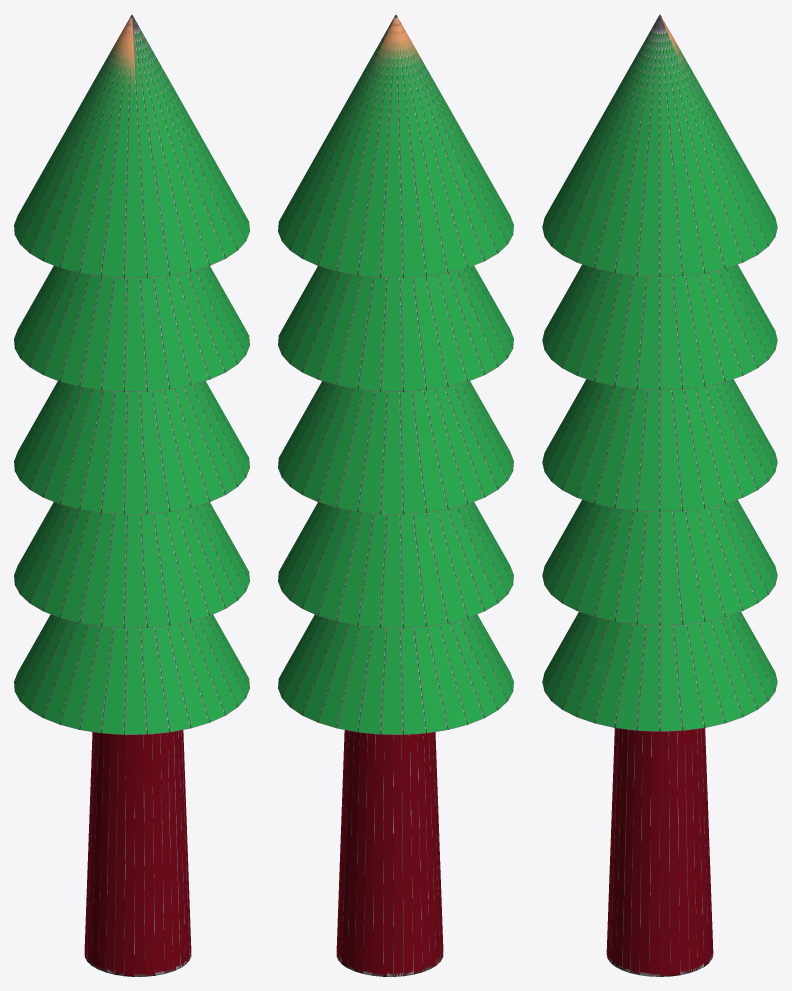
The model's file is tallPineTree.glb.
The picture shows the model from 3 angles, left to right: view 1: azimuth 30°, elevation 25°; view 2: azimuth 150°, elevation 25°; view 3: azimuth 270°, elevation 25°; orthographic projection.
Parts seen in each view (by area): view 1: Cylinder.005, Cylinder.003, Cylinder, Cylinder.002, Cylinder.004, Cylinder.001; view 2: Cylinder.005, Cylinder.003, Cylinder, Cylinder.002, Cylinder.004, Cylinder.001; view 3: Cylinder.005, Cylinder.003, Cylinder, Cylinder.002, Cylinder.004, Cylinder.001.
Boxes of the visible parts, box(x1,y1,x2,y2) form: Cylinder.005: box(14, 14, 249, 278); Cylinder.003: box(14, 381, 249, 514); Cylinder: box(84, 730, 191, 976); Cylinder.002: box(14, 502, 249, 628); Cylinder.004: box(14, 265, 249, 391); Cylinder.001: box(14, 614, 249, 734); Cylinder.005: box(278, 14, 513, 278); Cylinder.003: box(278, 381, 513, 514); Cylinder: box(336, 730, 443, 976); Cylinder.002: box(278, 502, 513, 628); Cylinder.004: box(278, 265, 513, 391); Cylinder.001: box(278, 614, 513, 734); Cylinder.005: box(542, 14, 777, 276); Cylinder.003: box(542, 379, 777, 512); Cylinder: box(606, 728, 713, 976); Cylinder.002: box(542, 499, 777, 625); Cylinder.004: box(542, 264, 777, 390); Cylinder.001: box(542, 612, 777, 731).
Bounding box in the file's own units: 2 × 8.79 × 2.
2 materials, 2 textured.
